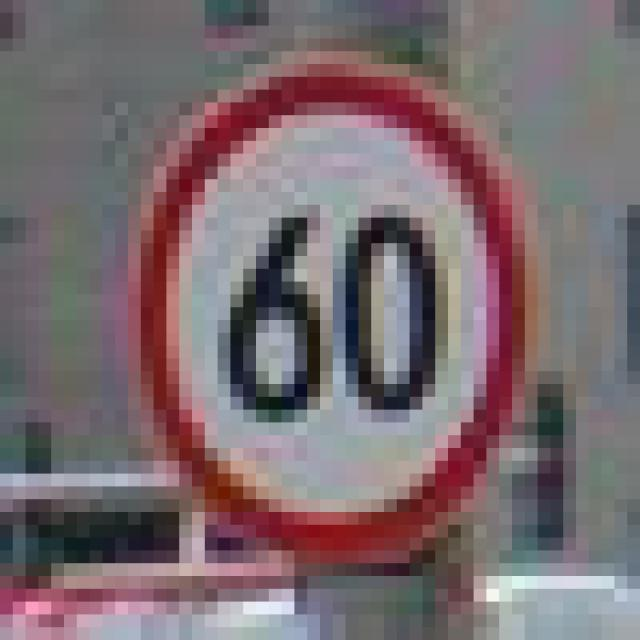speed_limit_40: (115, 39, 512, 538)
